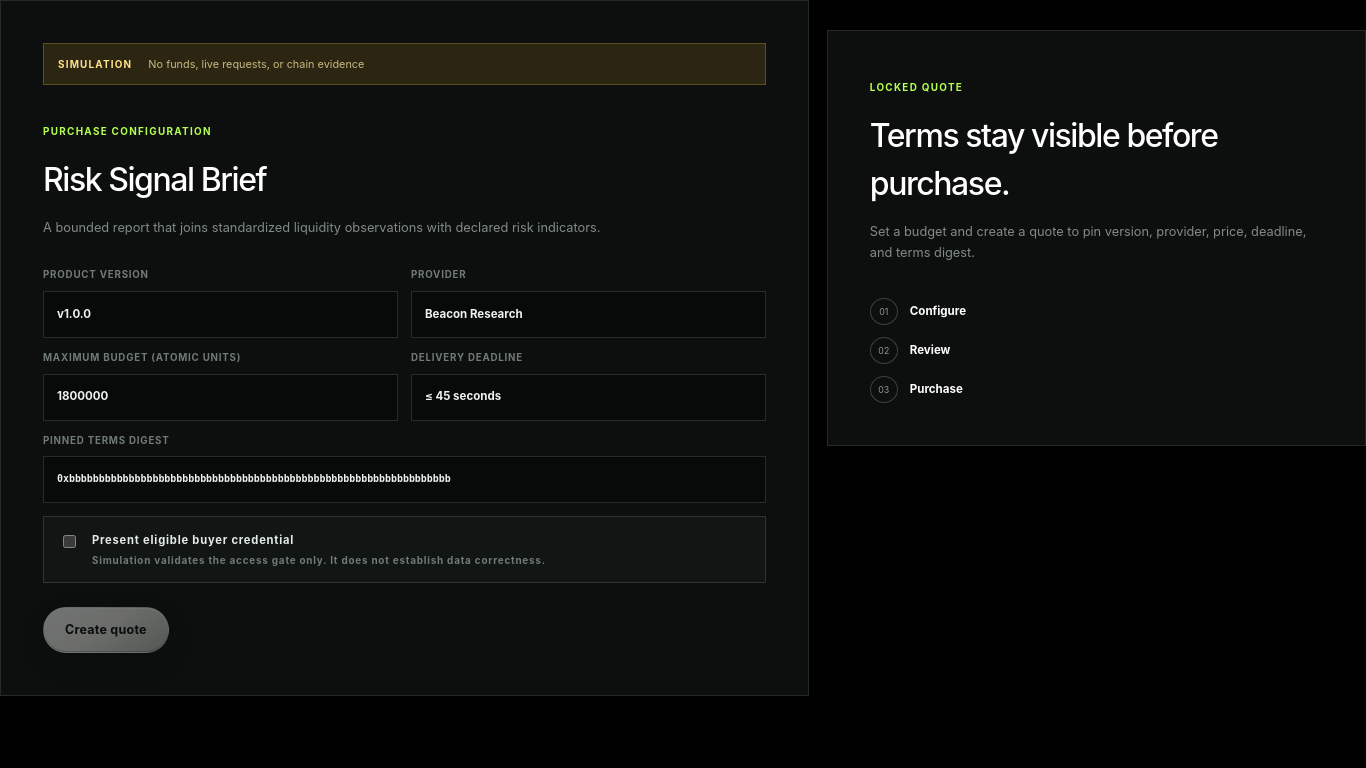
Scenario: PurchaseFlow › requires an access credential for private products
Expected: the button "Create quote" is disabled, [43,607,169,653]
Click the checkbox named "credential presentation" at (70, 542), box [63,535,76,548]
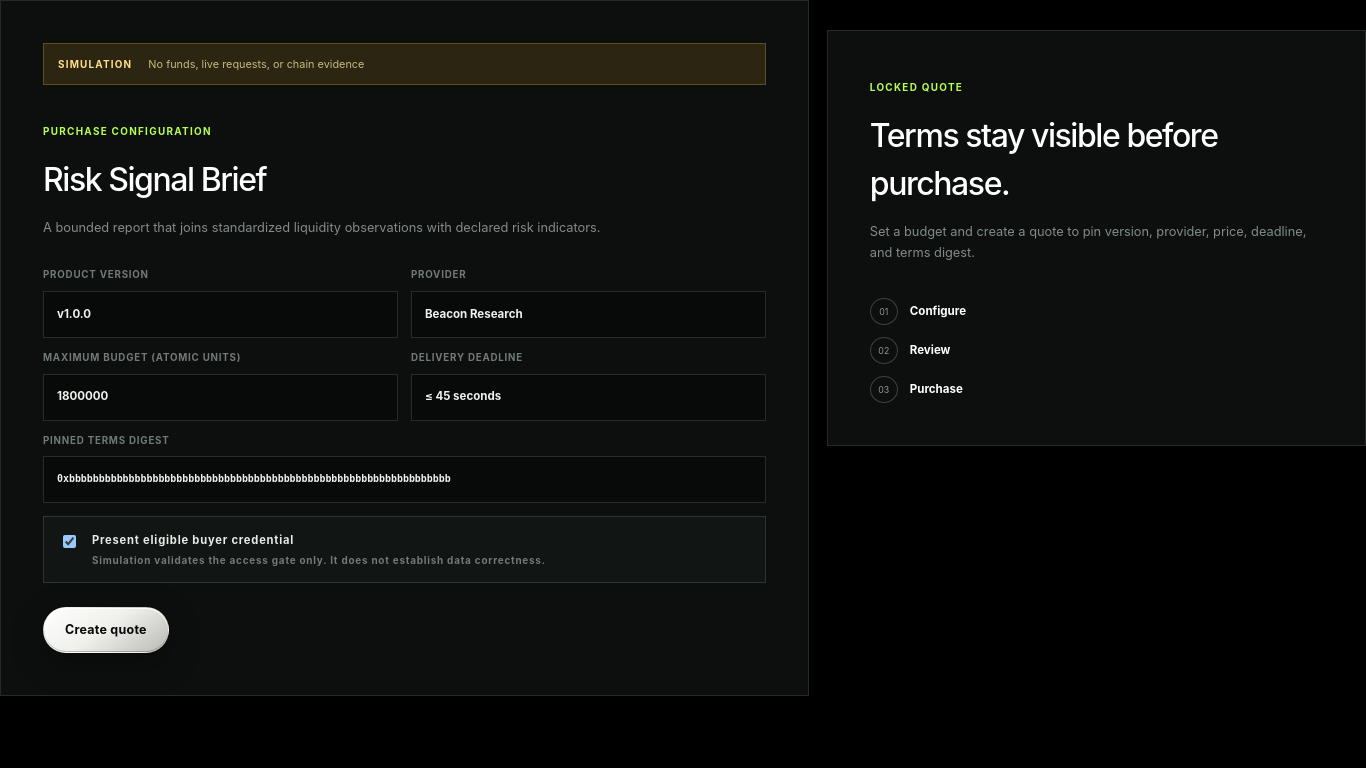
Expected: the button "Create quote" is enabled, [43,607,169,653]
